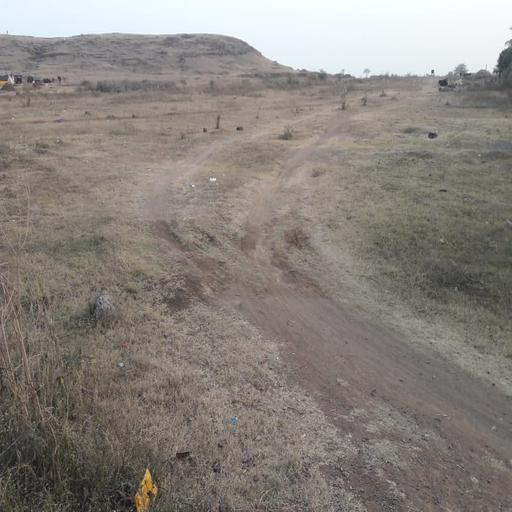vehicle_track: (141, 93, 512, 509)
